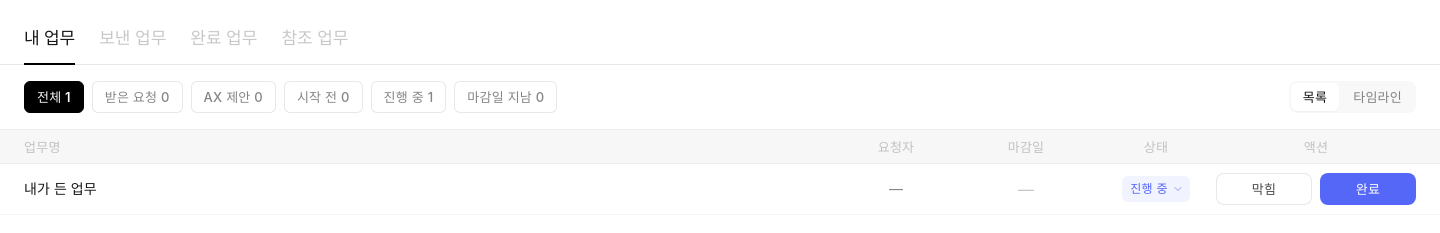
Test: work tabs and the one table they share › lists CC work in its own tab and offers nothing to accept or refuse
This screenshot has width=1440, height=233.
Click the tab "참조 업무": (315, 38) [281,12,348,64]
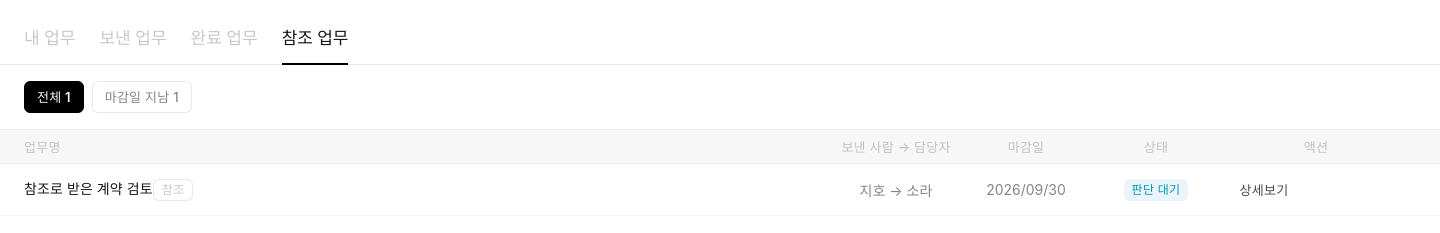
Expected: the text "참조로 받은 계약 검토" is shown, [24,180,153,197]
Expected: the text "지호 → 소라" is shown, [860,182,932,198]
